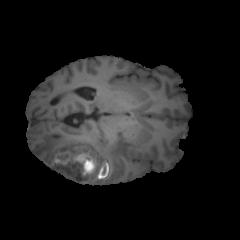glioma: (35, 130, 132, 184)
